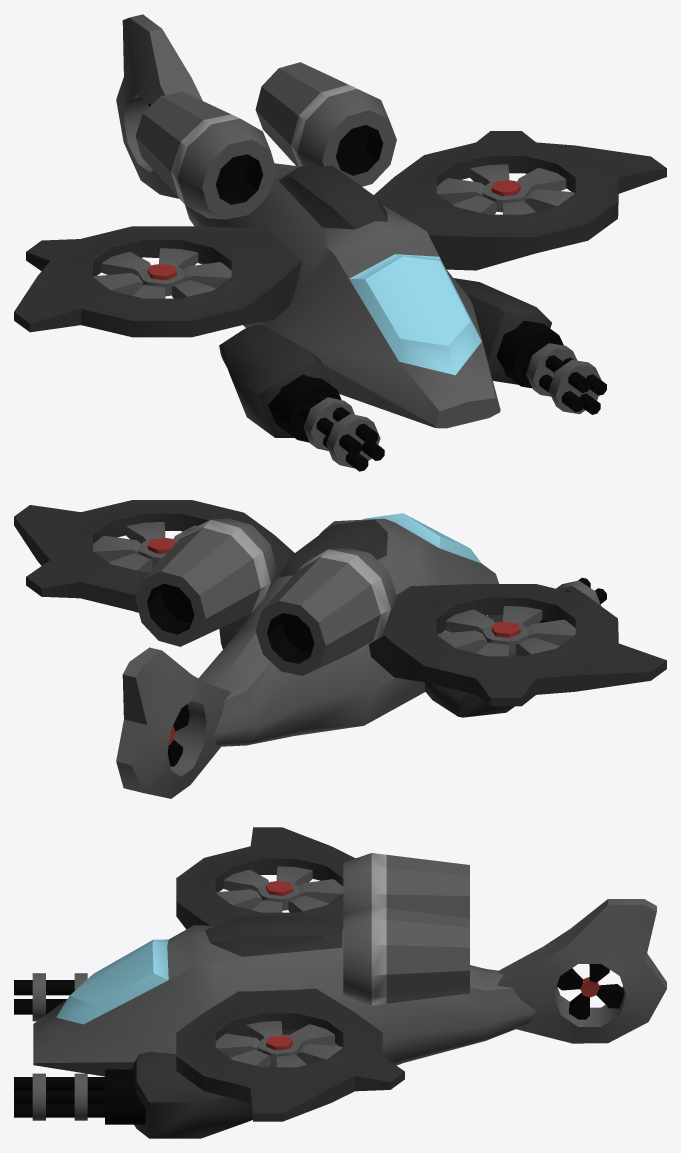
File: Helicopter 1.fbx
3 renders of one model, top to bottom at view 1: azimuth 30°, elevation 25°; view 2: azimuth 150°, elevation 25°; view 3: azimuth 270°, elevation 25°, orthographic. The views are drawn at different scales.
Parts seen in each view (by area): view 1: Cylinder.503, Plane.070, Cylinder.505, Cylinder.504, Cube.452, Cylinder.506, Cylinder.612, Cylinder.613, Cylinder.614, Cylinder.615; view 2: Cylinder.503, Cylinder.505, Plane.070, Cylinder.506, Cylinder.504, Cube.452, Cylinder.507; view 3: Plane.070, Cylinder.503, Cylinder.505, Cylinder.506, Cylinder.504, Cube.452, Cylinder.613, Cylinder.507, Cylinder.612, Cylinder.614, Cylinder.615.
Part boxes in pixels (bbox=[...]): Cylinder.503: bbox=[14, 131, 666, 337]; Plane.070: bbox=[185, 163, 500, 428]; Cylinder.505: bbox=[135, 62, 396, 219]; Cylinder.504: bbox=[93, 164, 574, 298]; Cube.452: bbox=[219, 278, 551, 437]; Cylinder.506: bbox=[116, 14, 202, 198]; Cylinder.612: bbox=[268, 320, 563, 442]; Cylinder.613: bbox=[300, 343, 606, 471]; Cylinder.614: bbox=[326, 360, 601, 468]; Cylinder.615: bbox=[303, 343, 577, 450]; Cylinder.503: bbox=[14, 500, 666, 706]; Cylinder.505: bbox=[135, 518, 396, 675]; Plane.070: bbox=[198, 513, 498, 746]; Cylinder.506: bbox=[116, 647, 230, 798]; Cylinder.504: bbox=[93, 522, 575, 656]; Cube.452: bbox=[219, 615, 540, 717]; Cylinder.507: bbox=[167, 704, 189, 766]; Plane.070: bbox=[33, 916, 535, 1076]; Cylinder.503: bbox=[176, 827, 404, 1121]; Cylinder.505: bbox=[343, 853, 469, 1005]; Cylinder.506: bbox=[497, 899, 666, 1043]; Cylinder.504: bbox=[215, 866, 343, 1067]; Cube.452: bbox=[131, 1051, 252, 1138]; Cylinder.613: bbox=[14, 980, 104, 1117]; Cylinder.507: bbox=[557, 964, 624, 1019]; Cylinder.612: bbox=[105, 1069, 145, 1124]; Cylinder.614: bbox=[32, 973, 45, 1120]; Cylinder.615: bbox=[74, 973, 87, 1120].
Bounding box in the file's own units: 2013 × 649 × 1940.
